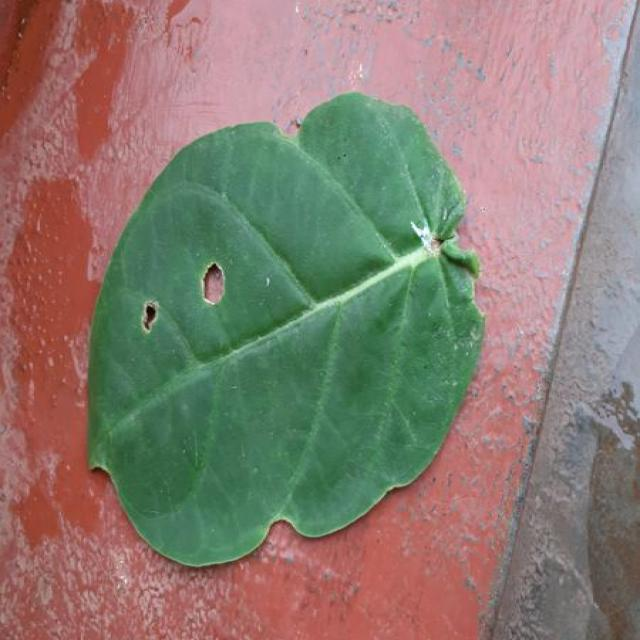ekka: (90, 94, 483, 566)
leaf spot: (95, 216, 342, 415)
